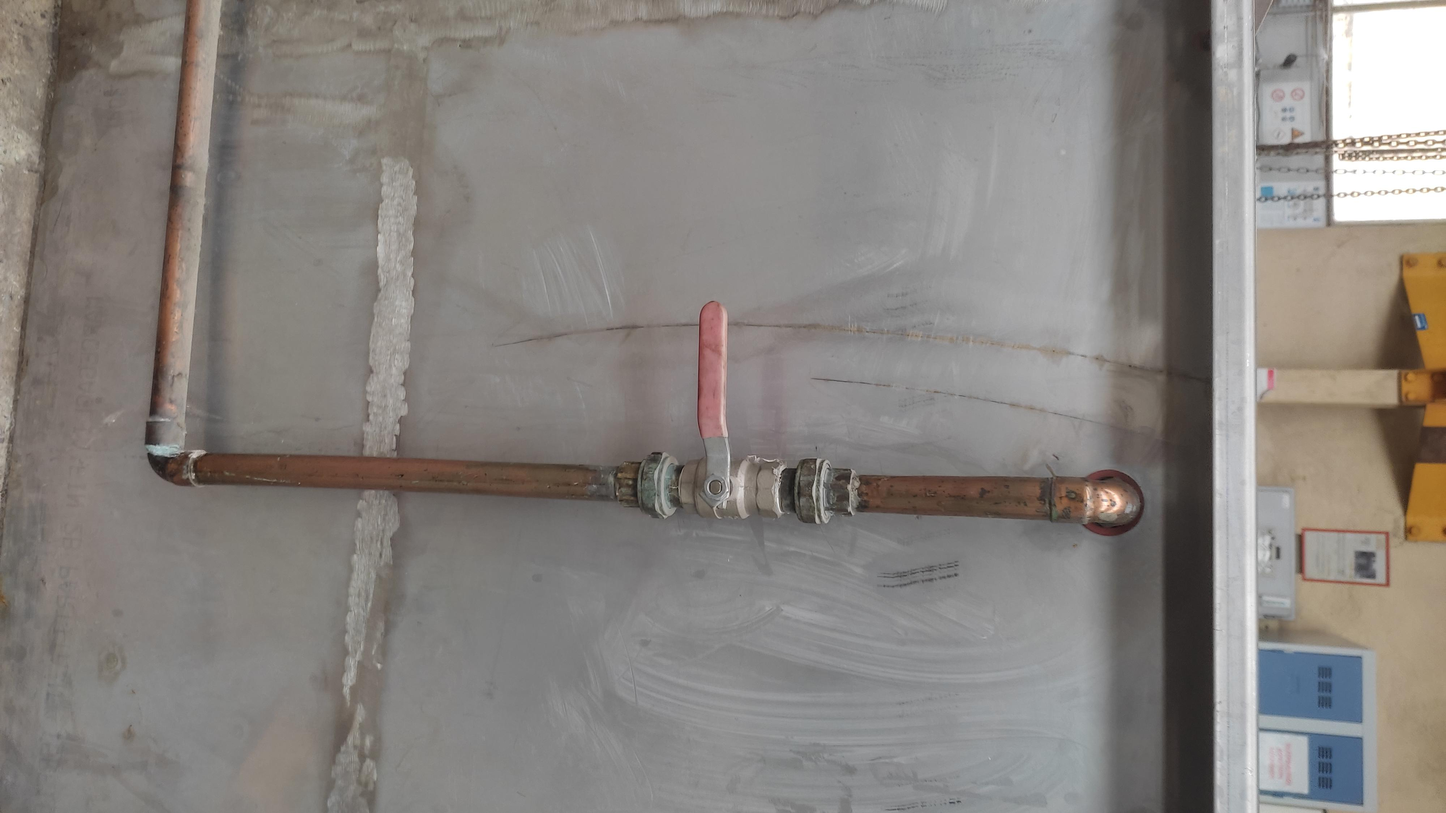closed valve: (676, 299, 788, 523)
